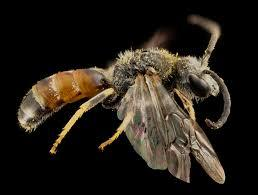Lasioglossum: (14, 7, 241, 182)
